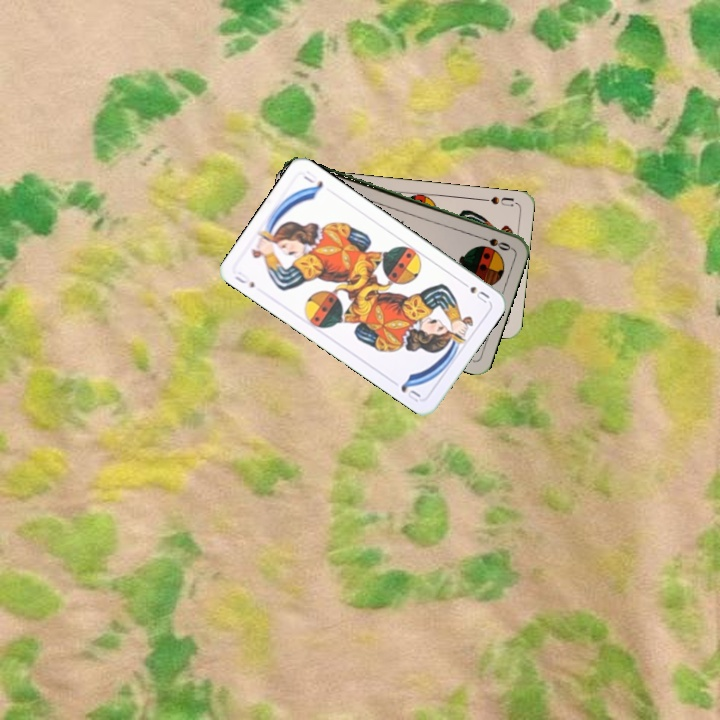SO: (474, 232, 514, 253)
SU: (456, 276, 492, 306), (478, 192, 516, 209), (230, 267, 257, 290)
